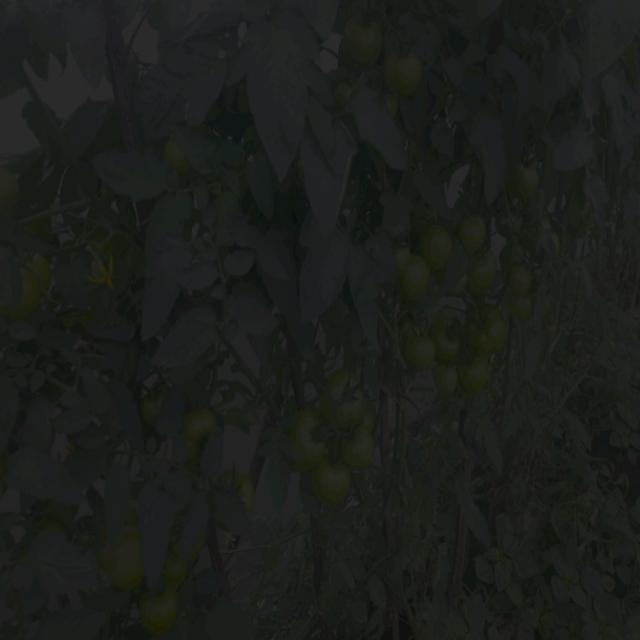tomato: (347, 13, 401, 64), (111, 528, 149, 593), (466, 303, 509, 354), (382, 50, 430, 93), (340, 425, 374, 483), (23, 257, 58, 312), (333, 372, 366, 430), (299, 407, 330, 467), (141, 589, 187, 627), (424, 229, 458, 274), (462, 350, 495, 396), (466, 248, 499, 293), (186, 403, 216, 452), (317, 461, 350, 504), (234, 475, 265, 520), (405, 255, 435, 301), (138, 390, 174, 428), (428, 360, 464, 396), (436, 312, 460, 364), (405, 334, 438, 368), (515, 165, 545, 202), (461, 216, 489, 255), (162, 550, 190, 582), (1, 167, 19, 211), (172, 141, 195, 175), (513, 265, 534, 298), (335, 81, 353, 110), (517, 299, 536, 322)
